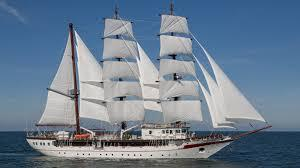Ship: (20, 3, 276, 164)
